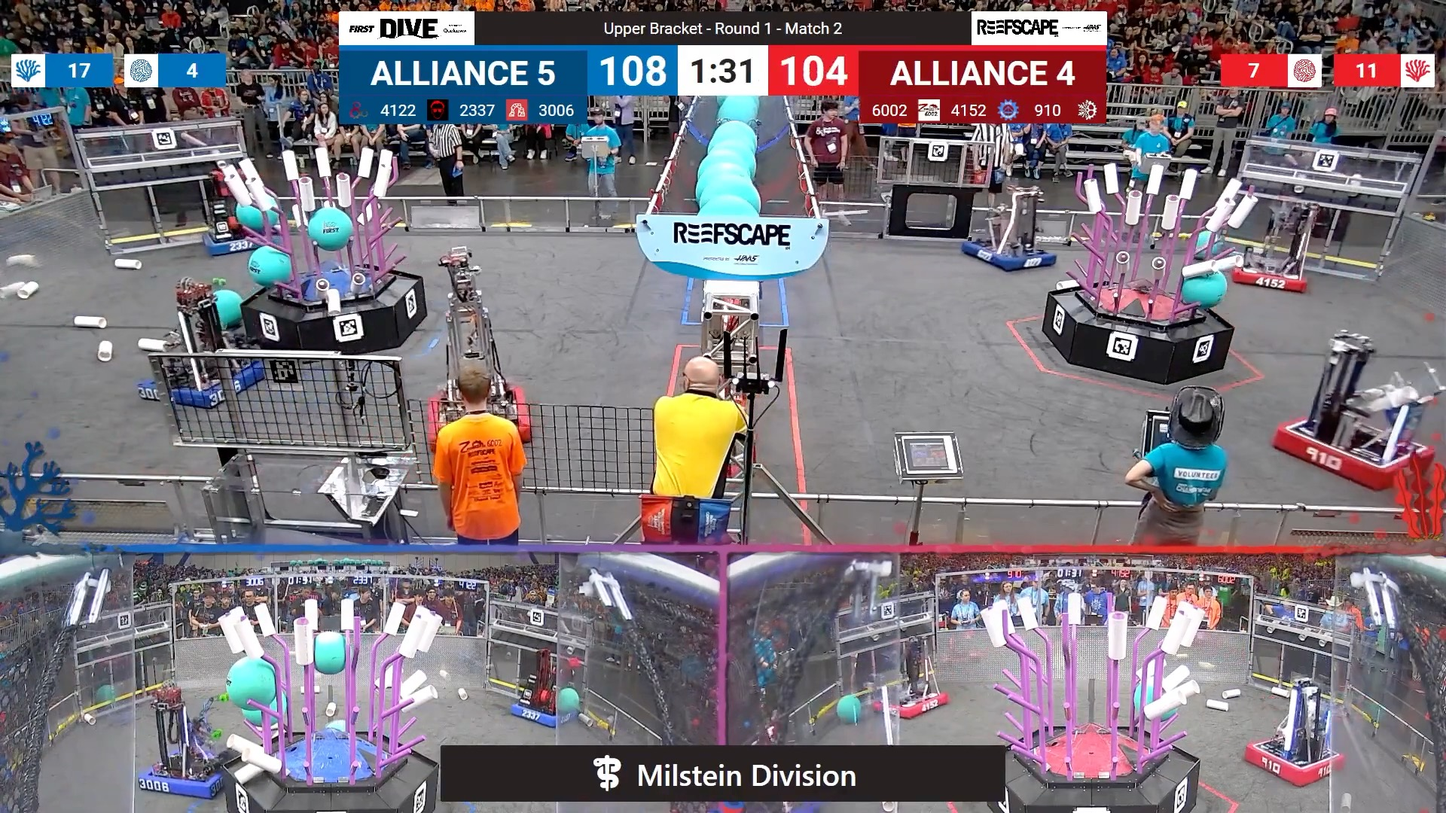bumpers: (1267, 410, 1432, 489), (131, 360, 272, 410), (422, 379, 539, 438), (1234, 737, 1350, 787), (130, 750, 236, 804), (1218, 256, 1319, 297), (955, 240, 1062, 275), (199, 219, 285, 258), (505, 694, 580, 731), (868, 687, 955, 718)
